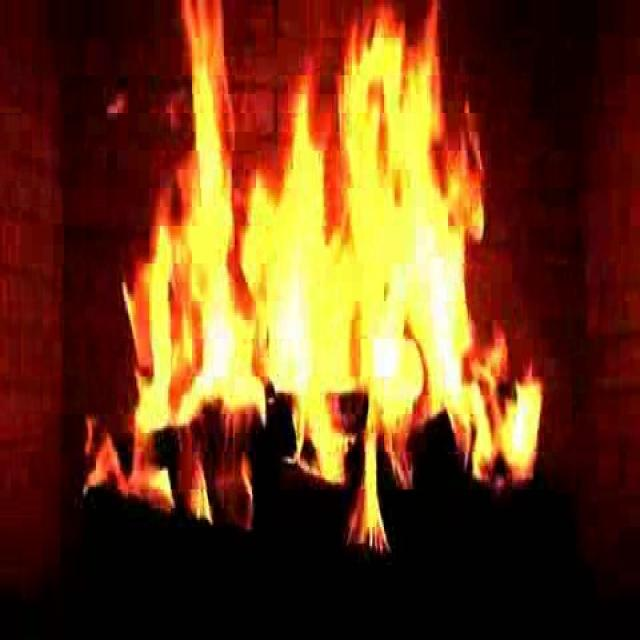fire: (108, 31, 517, 530)
